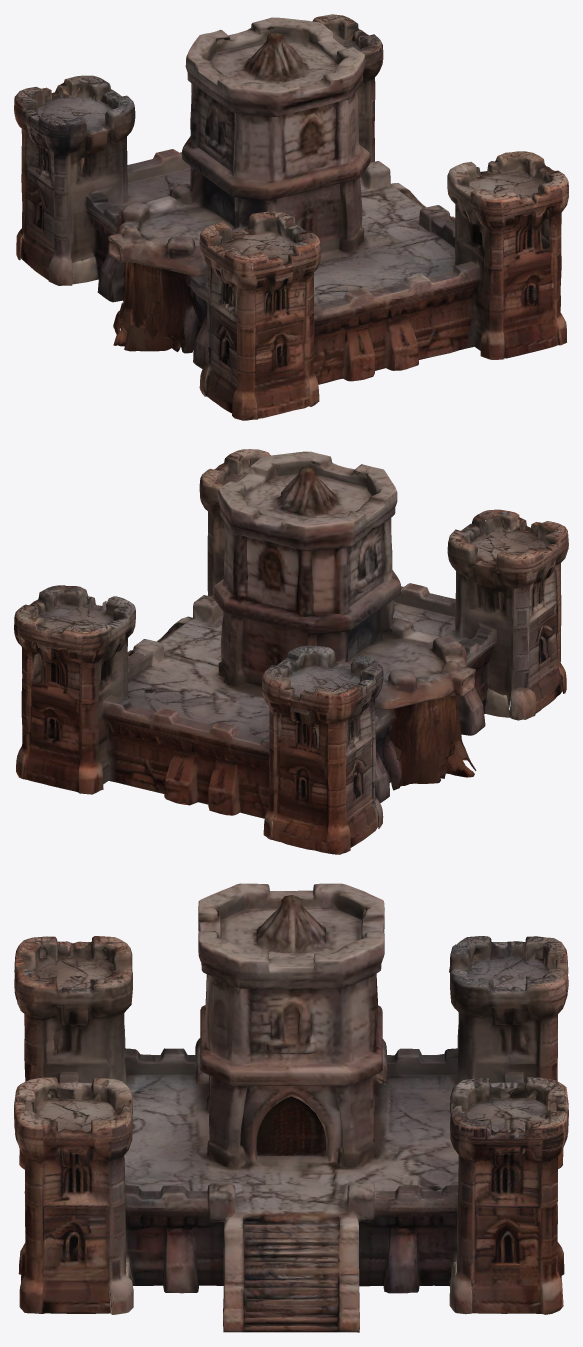
The picture shows the model from 3 angles, top to bottom: view 1: azimuth 30°, elevation 25°; view 2: azimuth 150°, elevation 25°; view 3: azimuth 270°, elevation 25°; orthographic projection. The views are drawn at different scales.
Parts seen in each view (by area): view 1: tripo_node_7ef750a7-b0ed-436e-baf1-4f6b36f50819; view 2: tripo_node_7ef750a7-b0ed-436e-baf1-4f6b36f50819; view 3: tripo_node_7ef750a7-b0ed-436e-baf1-4f6b36f50819.
Boxes of the visible parts, x1,y1,x2,y2 form: tripo_node_7ef750a7-b0ed-436e-baf1-4f6b36f50819: (14,14,568,420); tripo_node_7ef750a7-b0ed-436e-baf1-4f6b36f50819: (14,449,568,854); tripo_node_7ef750a7-b0ed-436e-baf1-4f6b36f50819: (14,883,568,1332).
Bounding box in the file's own units: 0.9185 × 0.6365 × 1.
Materials: 1 (1 with a texture image).
